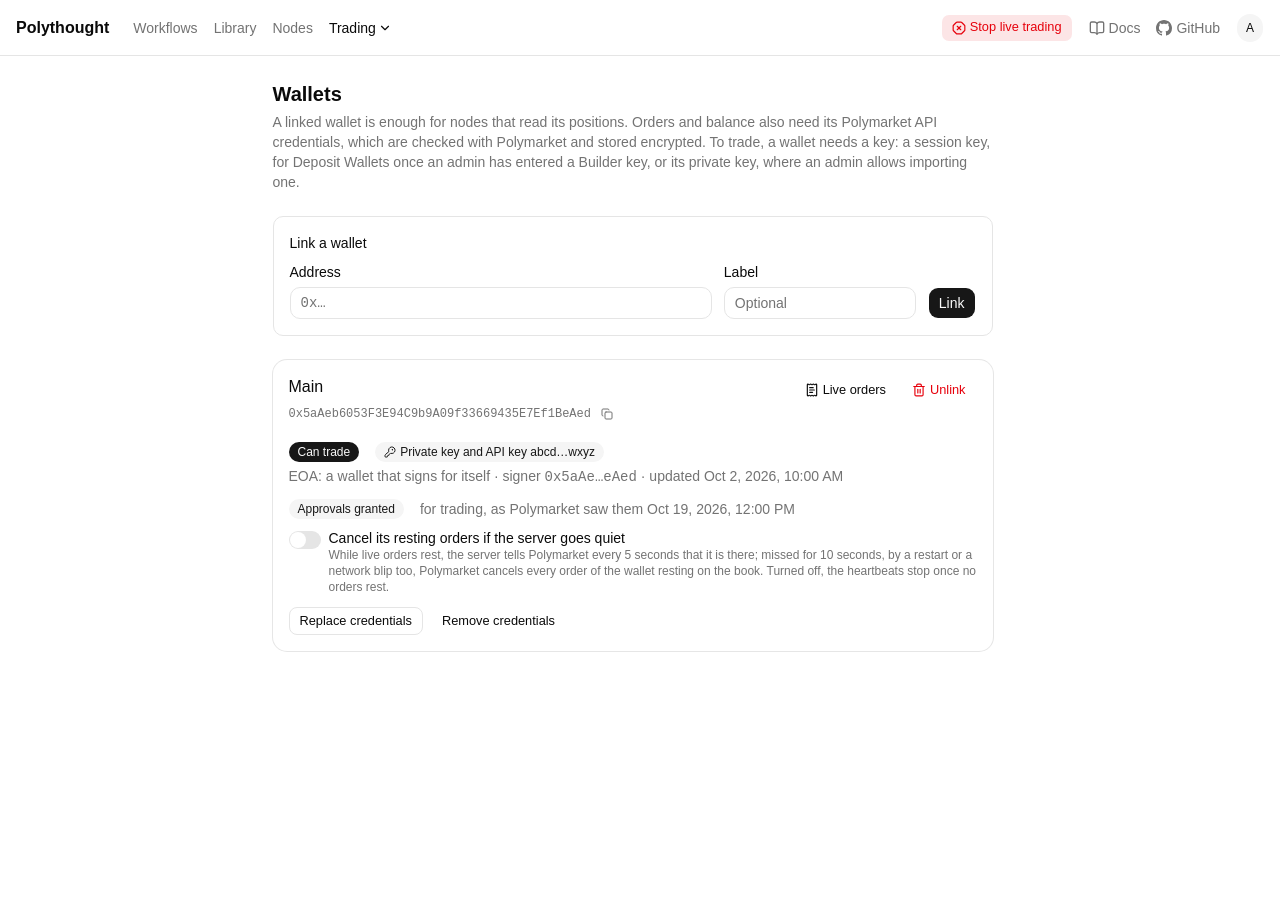
Test case: wallets page › turns heartbeats on for a wallet that can trade (D214)
Click the switch named "Cancel its resting orders if the server goes quiet" at (304, 540), box 288,531 -> 320,549
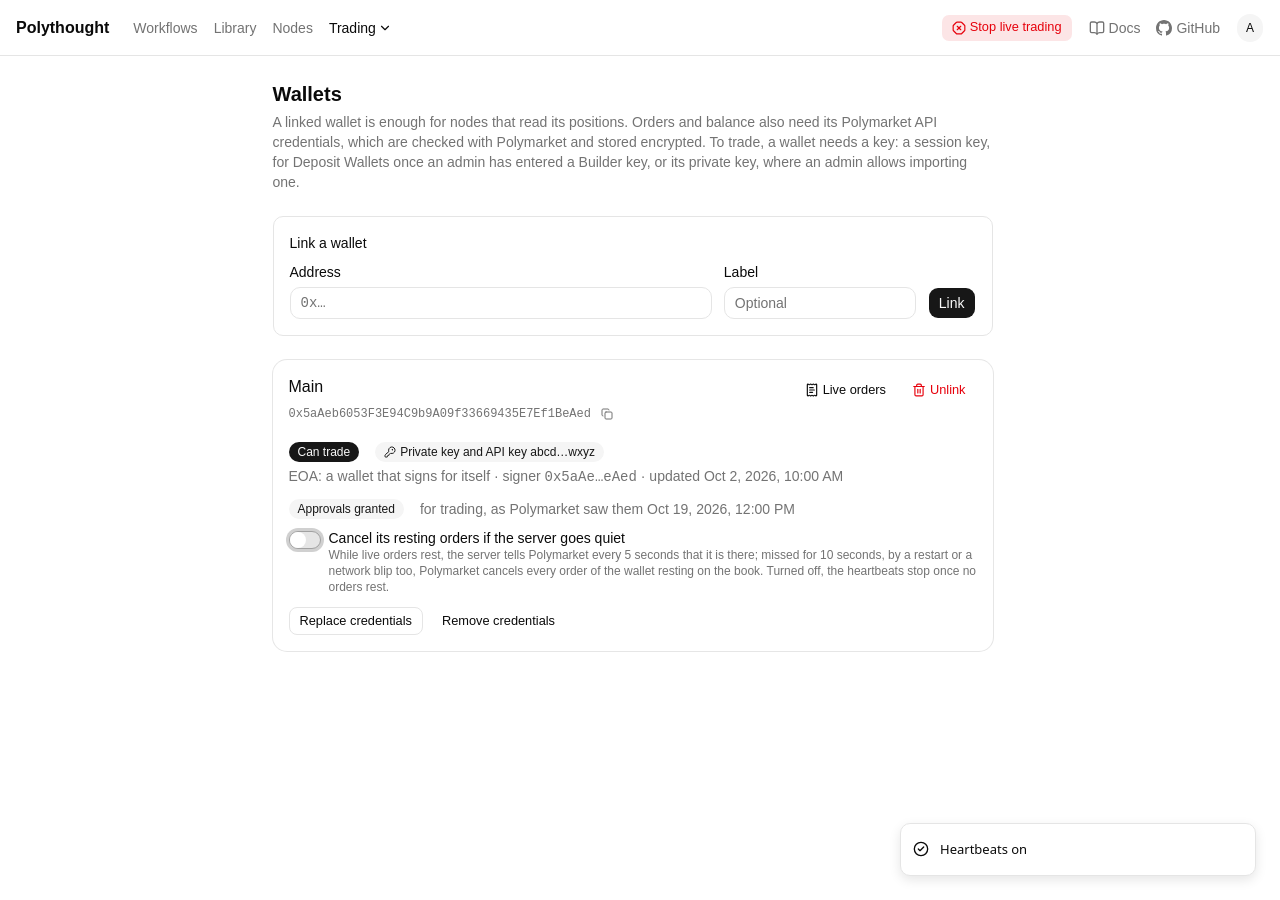
Check: the text "Heartbeats on" is shown, box 940,840 -> 1027,859
